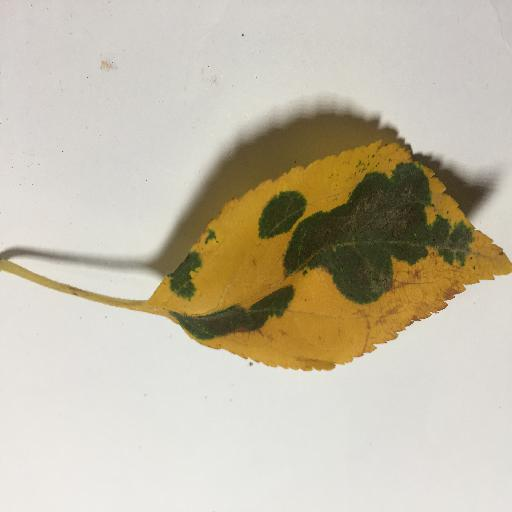Brown_Spot: (296, 193, 411, 266), (187, 296, 282, 330)
